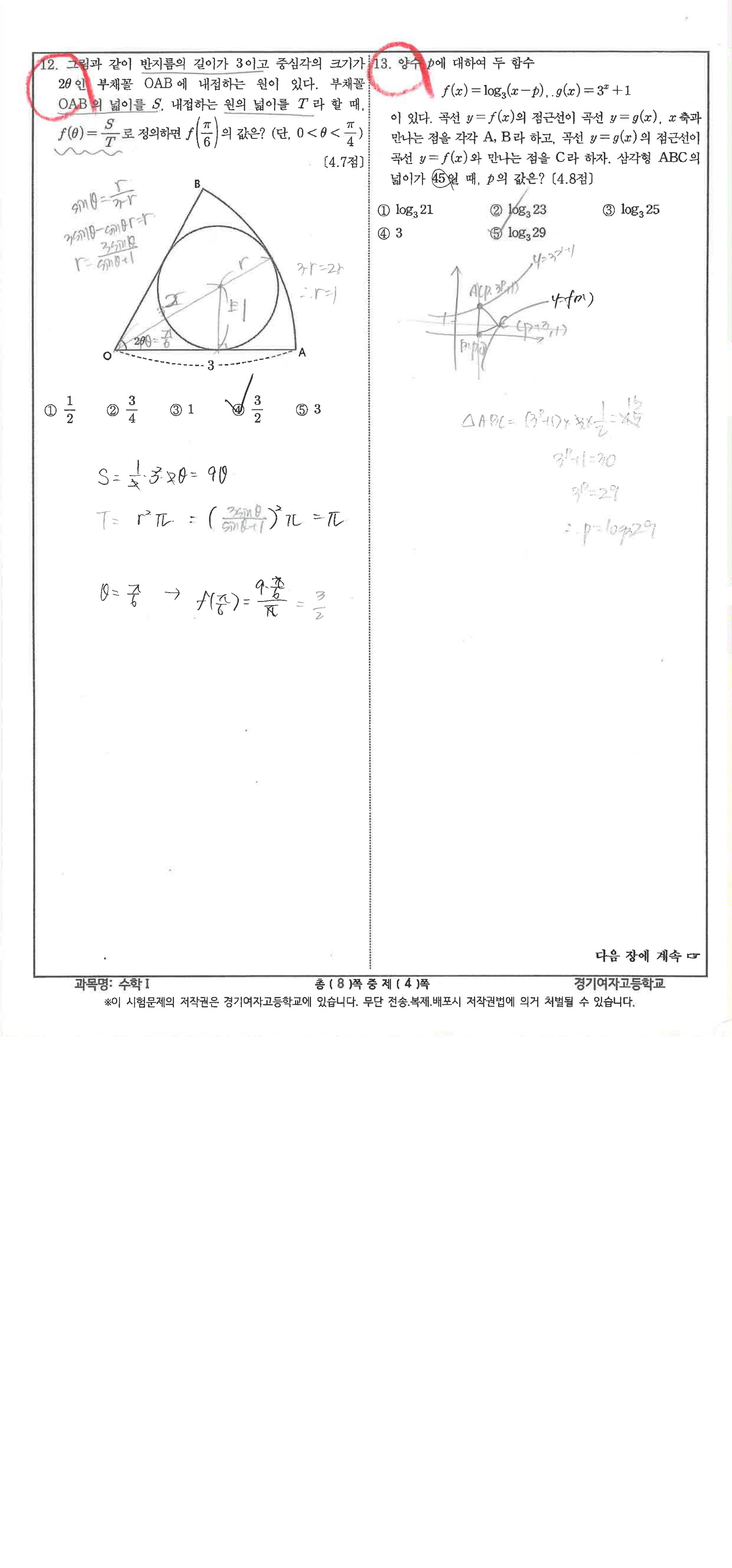problem: (35, 54, 365, 418), (372, 55, 704, 254)
